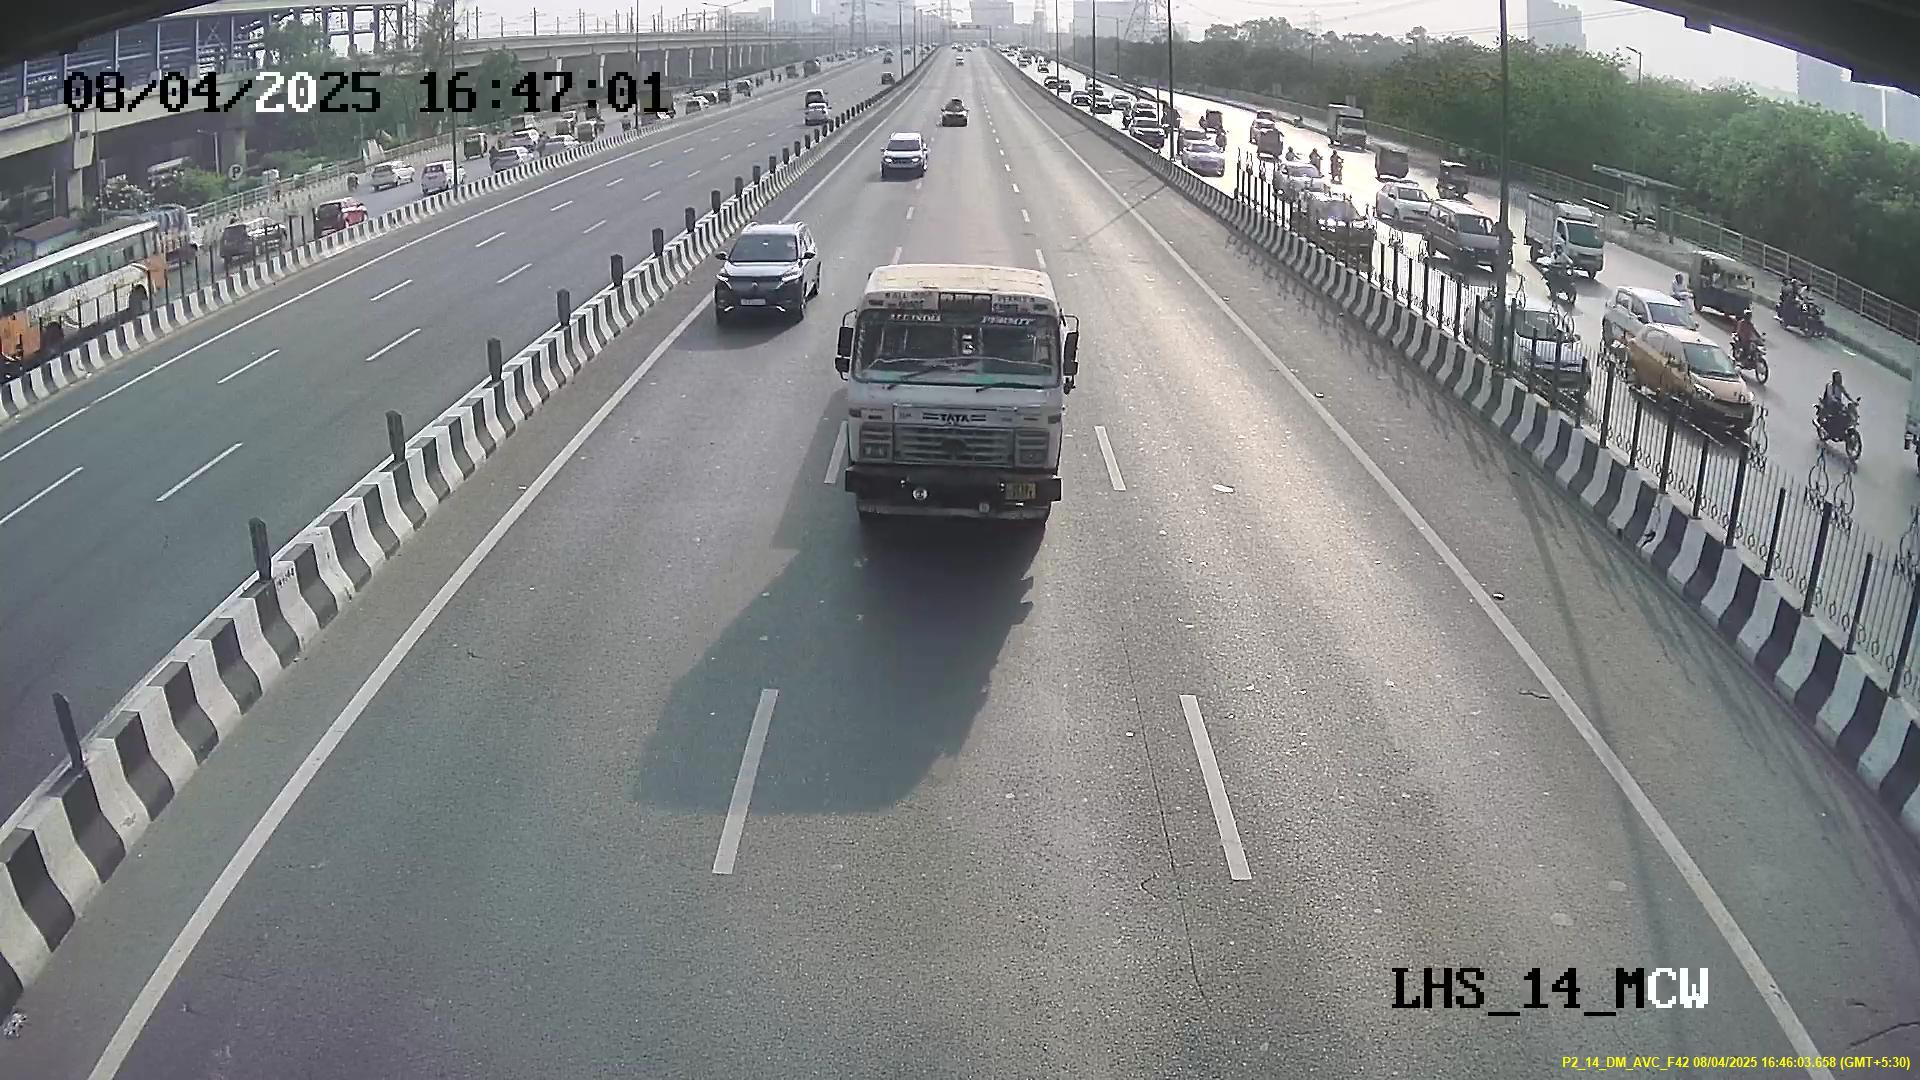car: (708, 227, 816, 334)
truck: (827, 258, 1085, 547)
